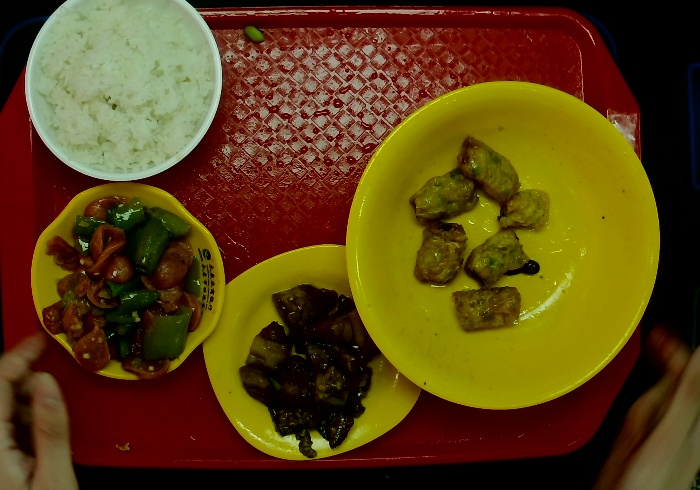YKMZ-Fan_Wan: (22, 1, 223, 181)
YKMZ-Huang_Se_Ao_Bian_Wan: (28, 183, 225, 379)
YKMZ-Huang_Se_Fang_Die: (202, 243, 418, 464)
YKMZ-Huang_Se_Tang_Wan: (341, 78, 662, 412)
